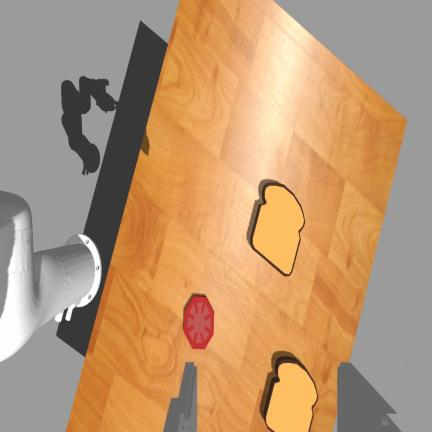sliced_bread: (251, 183, 304, 275), (264, 358, 317, 431)
sliced_tomato: (185, 296, 214, 348)
